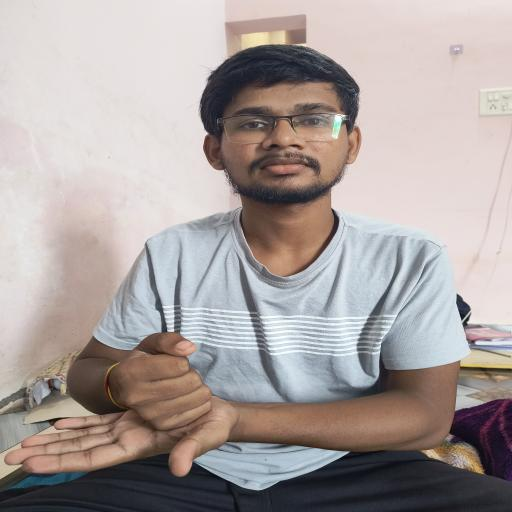Next: (2, 307, 274, 488)
